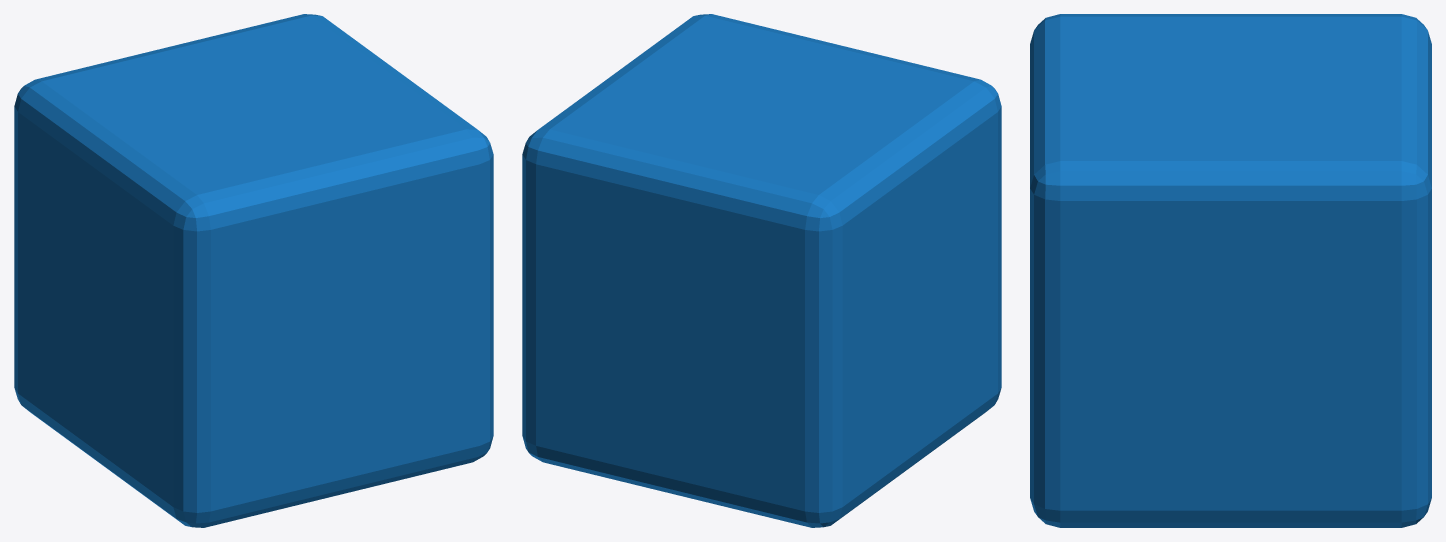
File: probe.obj
The picture shows the model from 3 angles, left to right: view 1: azimuth 30°, elevation 25°; view 2: azimuth 150°, elevation 25°; view 3: azimuth 270°, elevation 25°; orthographic projection. The views are drawn at different scales.
Visible parts, largest first — view 1: REA_isolated_cube; view 2: REA_isolated_cube; view 3: REA_isolated_cube.
Boxes of the visible parts, x1=… form: REA_isolated_cube: x1=14, y1=14, x2=493, y2=527; REA_isolated_cube: x1=522, y1=14, x2=1001, y2=527; REA_isolated_cube: x1=1030, y1=14, x2=1431, y2=527.
Bounding box in the file's own units: 2 × 2 × 2.
